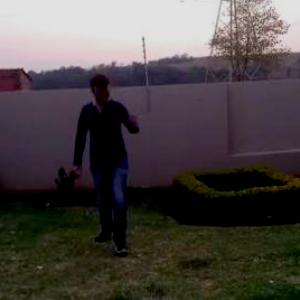takeoff-hand: (123, 104, 150, 136)
